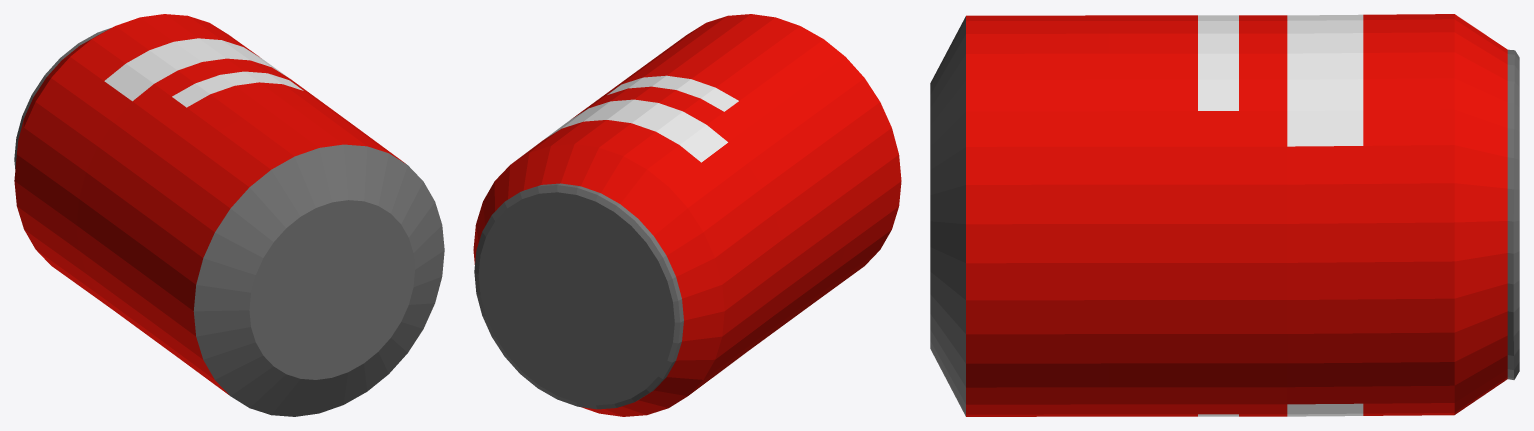
File: Can.fbx
The picture shows the model from 3 angles, left to right: view 1: azimuth 30°, elevation 25°; view 2: azimuth 150°, elevation 25°; view 3: azimuth 270°, elevation 25°; orthographic projection. The views are drawn at different scales.
Visible parts, largest first — view 1: Cylinder; view 2: Cylinder; view 3: Cylinder.
Part boxes in pixels (x1,y1,x2,y2): Cylinder: (14, 14, 444, 416); Cylinder: (473, 14, 901, 416); Cylinder: (930, 14, 1519, 416).
Bounding box in the file's own units: 199 × 200 × 293.
